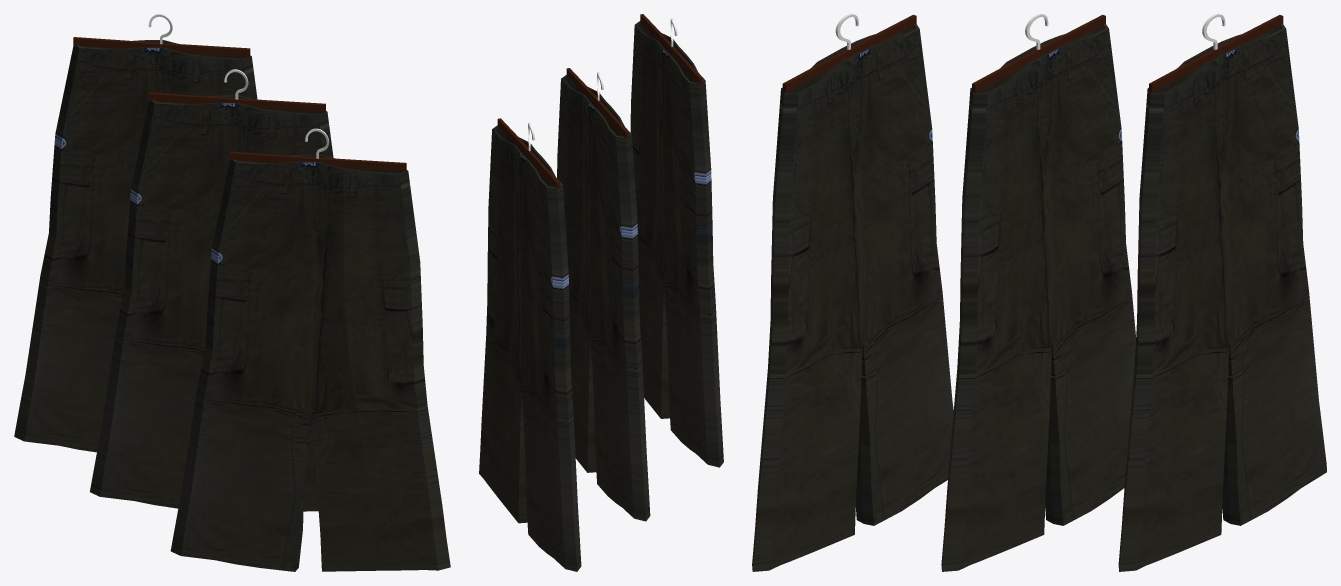
Rendered from cargogreen.glb.
The picture shows the model from 3 angles, left to right: view 1: azimuth 30°, elevation 25°; view 2: azimuth 150°, elevation 25°; view 3: azimuth 270°, elevation 25°; orthographic projection. The views are drawn at different scales.
Parts seen in each view (by area): view 1: Plane.027; view 2: Plane.027; view 3: Plane.027.
Part boxes in pixels (x1,y1,x2,y2): Plane.027: [14, 14, 450, 571]; Plane.027: [479, 14, 723, 571]; Plane.027: [752, 14, 1326, 571].
Size of the model in its own units: 0.2447 by 0.5377 by 0.5428.
3 materials, 3 textured.
